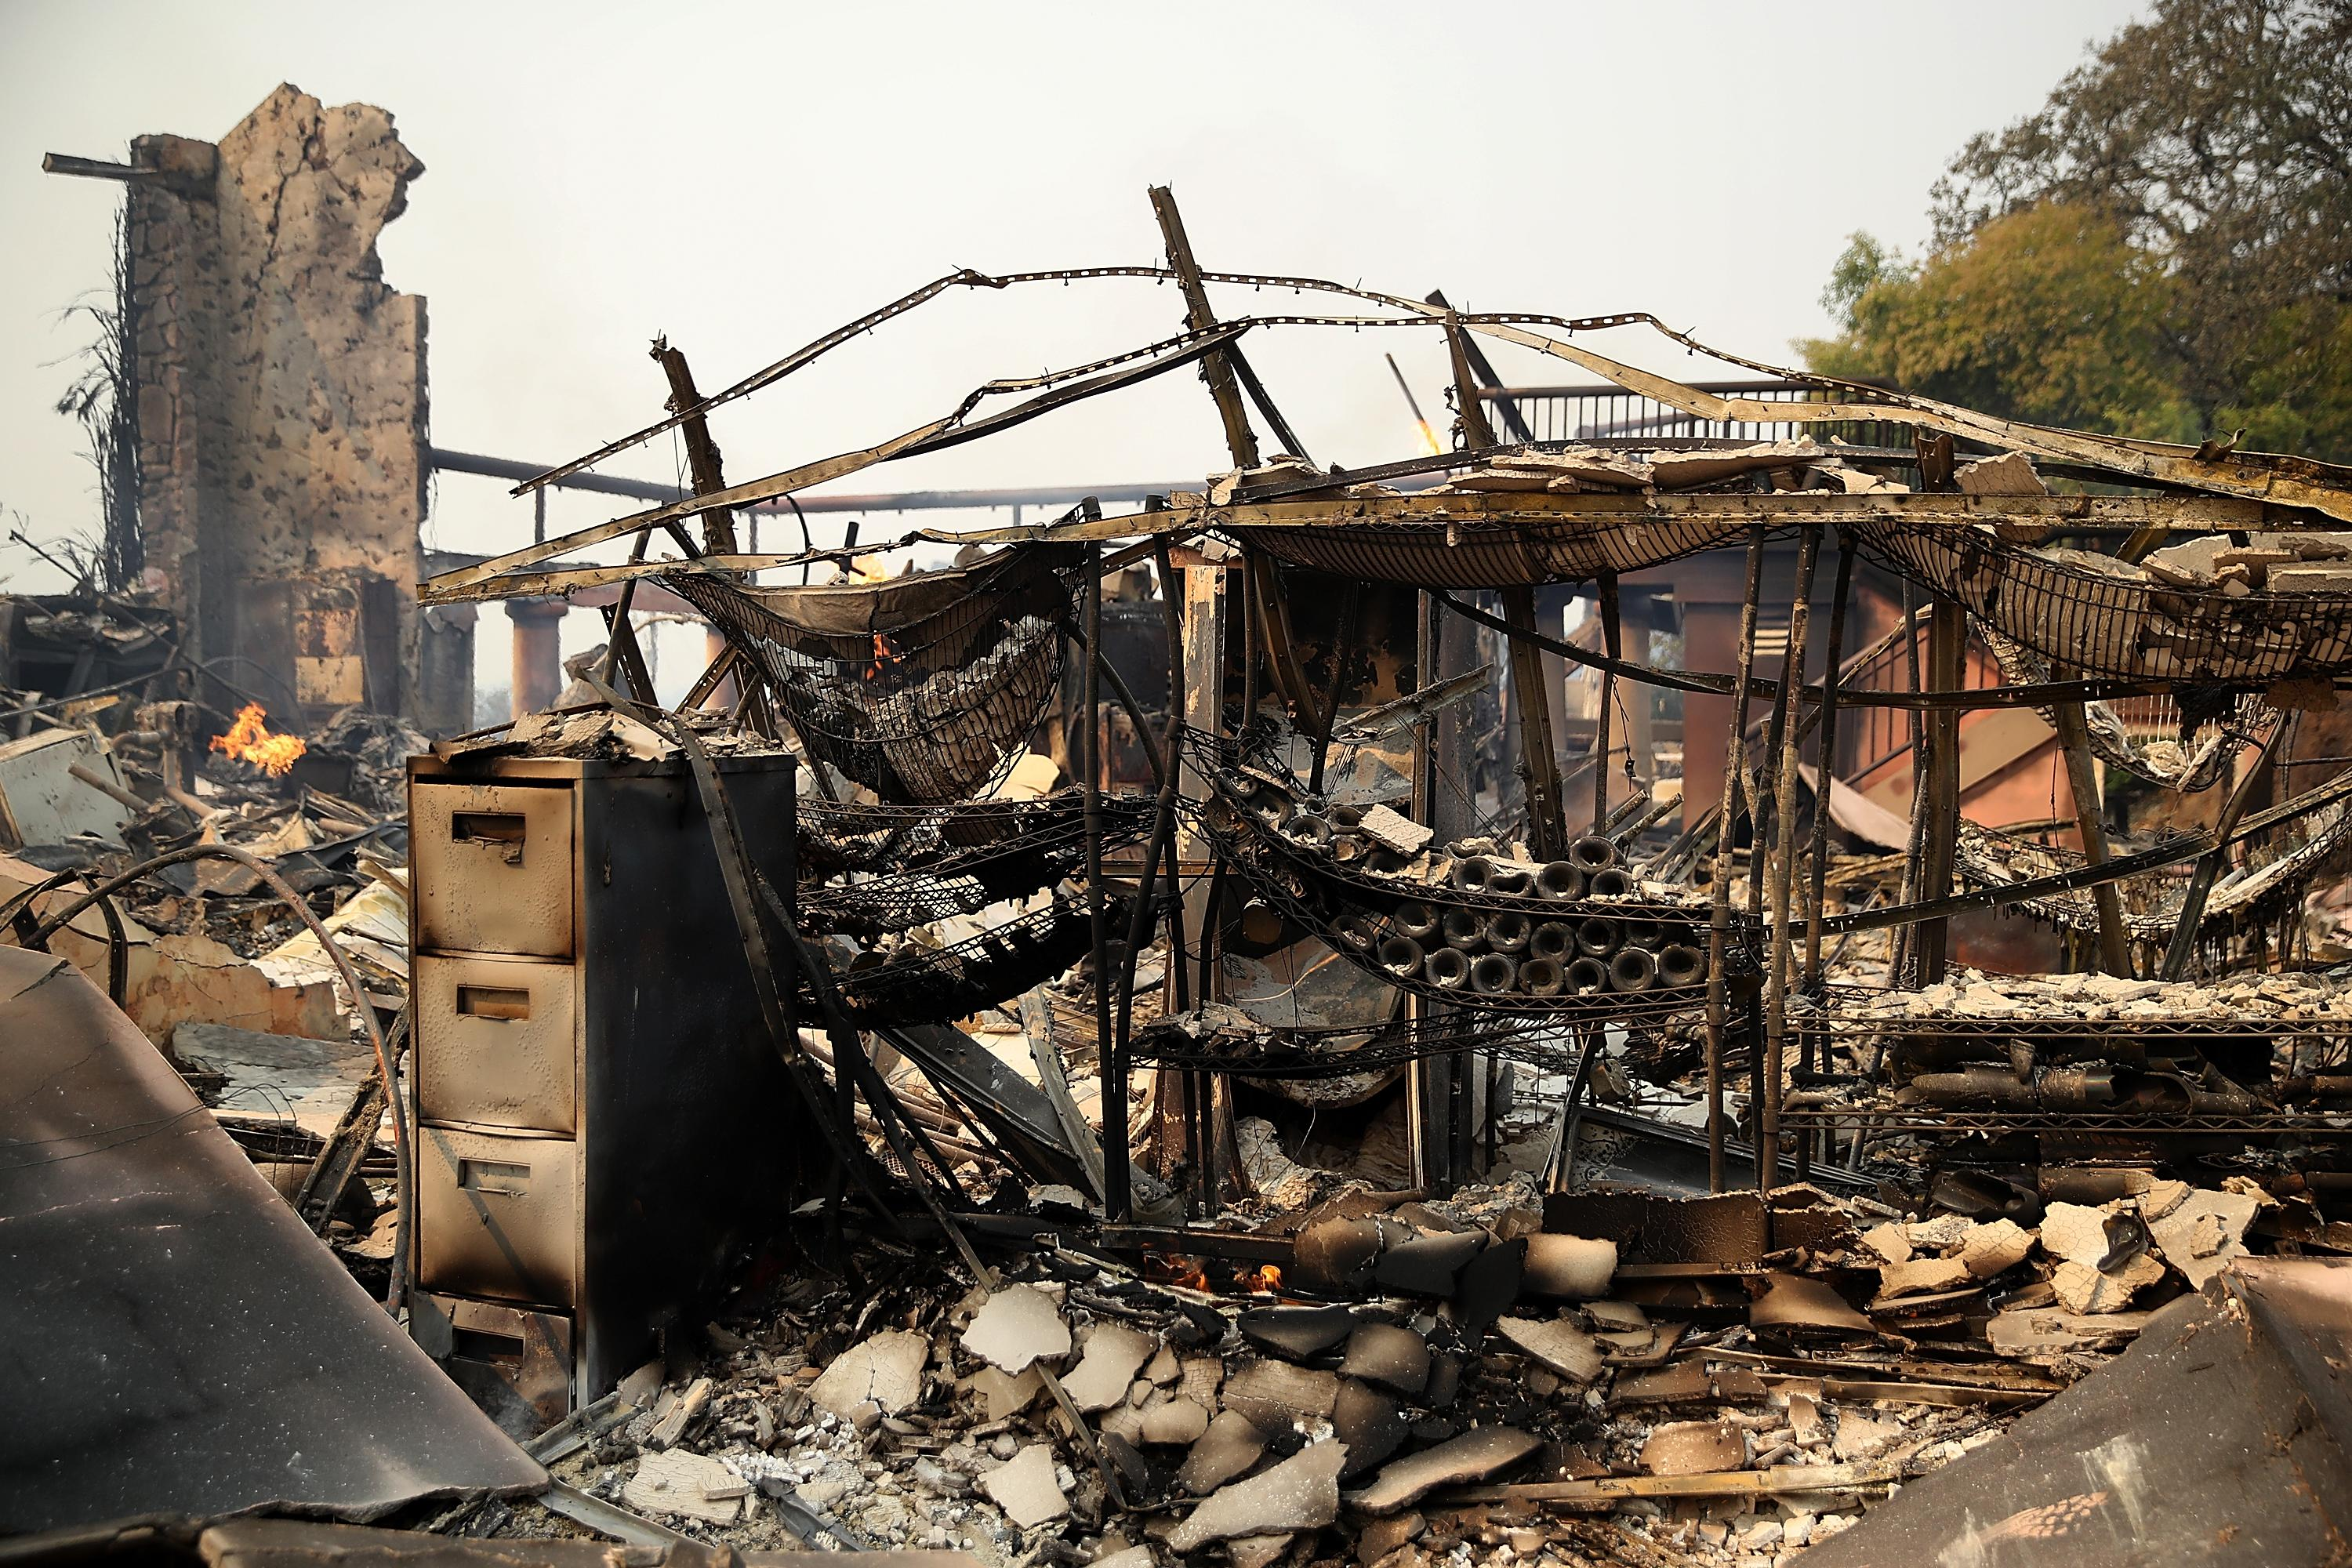fire: (212, 693, 301, 770)
